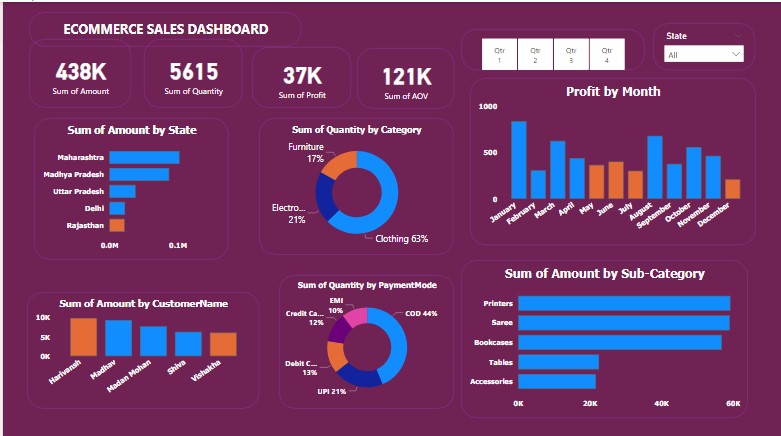

The page's visual inventory and layout, read from the dashboard file:
{"tool":"powerbi","page":{"name":"Page 1","canvas":[1280,720],"ordinal":0},"visuals":[{"type":"textbox","box":[43.3,16.7,448.3,56.7],"z":0},{"type":"columnChart","title":"Profit by Month","fields":{"Category":["Orders.Order Date.Variation.Date Hierarchy.Month"],"Y":["Sum(Details.Quantity)"]},"box":[768.3,125,470,275],"z":1000},{"type":"clusteredBarChart","fields":{"Y":["Sum(Details.Amount)"],"Category":["Details.Sub-Category"]},"box":[753.3,425,471.7,260],"z":2000},{"type":"donutChart","fields":{"Category":["Details.Category"],"Y":["Sum(Details.Quantity)"]},"box":[421.7,191.7,320,225],"z":3000},{"type":"donutChart","fields":{"Y":["Sum(Details.Quantity)"],"Category":["Details.PaymentMode"]},"box":[453.3,448.3,288.3,220],"z":4000},{"type":"card","fields":{"Values":["Sum(Details.Amount)"]},"box":[43.3,61.7,168.3,113.3],"z":5000},{"type":"card","fields":{"Values":["Sum(Details.Quantity)"]},"box":[231.7,61.7,161.7,113.3],"z":6000},{"type":"card","fields":{"Values":["Sum(Details.Profit)"]},"box":[410,73.3,163.3,100],"z":7000},{"type":"card","fields":{"Values":["Sum(Details.AOV)"]},"box":[581.7,75,160,100],"z":8000},{"type":"clusteredBarChart","fields":{"Y":["Sum(Details.Amount)"],"Category":["Orders.State"]},"box":[51.7,191.7,320,233.3],"z":9000},{"type":"columnChart","fields":{"Category":["Orders.CustomerName"],"Y":["Sum(Details.Amount)"]},"box":[40,476.7,381.7,191.7],"z":10000},{"type":"slicer","fields":{"Values":["Orders.State"]},"box":[1070,35,168.3,78.3],"z":11000},{"type":"slicer","fields":{"Values":["Orders.Order Date.Variation.Date Hierarchy.Quarter"]},"box":[753.3,45,301.7,68.3],"z":12000}]}

Visuals, with their boxes in screenshot pixels (x1, y1, x2, y2), scaled from the page's 1280x720 canvas onto the 781x436 screenshot:
textbox: region(26, 10, 300, 44)
"Profit by Month" columnChart: region(469, 76, 756, 242)
clusteredBarChart - Sum(Details.Amount) x Details.Sub-Category: region(460, 257, 747, 415)
donutChart - Details.Category x Sum(Details.Quantity): region(257, 116, 453, 252)
donutChart - Sum(Details.Quantity) x Details.PaymentMode: region(277, 271, 452, 405)
card - Sum(Details.Amount): region(26, 37, 129, 106)
card - Sum(Details.Quantity): region(141, 37, 240, 106)
card - Sum(Details.Profit): region(250, 44, 350, 105)
card - Sum(Details.AOV): region(355, 45, 453, 106)
clusteredBarChart - Sum(Details.Amount) x Orders.State: region(32, 116, 227, 257)
columnChart - Orders.CustomerName x Sum(Details.Amount): region(24, 289, 257, 405)
slicer - Orders.State: region(653, 21, 756, 69)
slicer - Orders.Order Date.Variation.Date Hierarchy.Quarter: region(460, 27, 644, 69)
